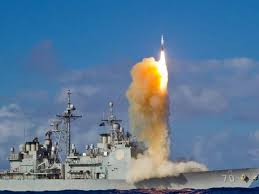maybay_muctieu: (159, 32, 166, 56)
tau_muctieu: (9, 109, 259, 194)
